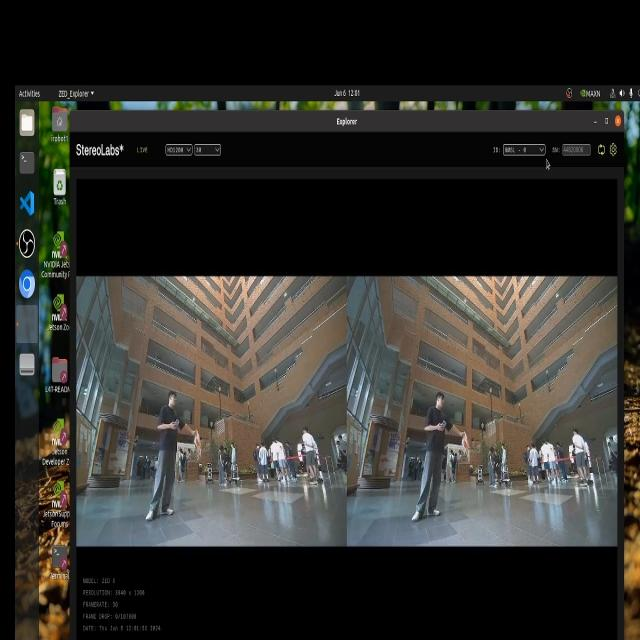red: (462, 438, 472, 460), (195, 437, 203, 450)
